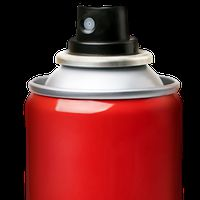Aerosol_cans: (23, 5, 185, 200)
